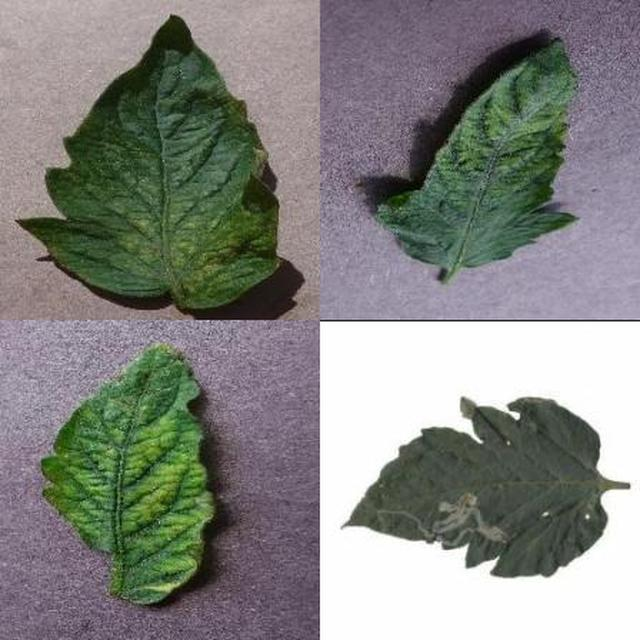Spider Mites Leaf: (181, 216, 640, 640)
